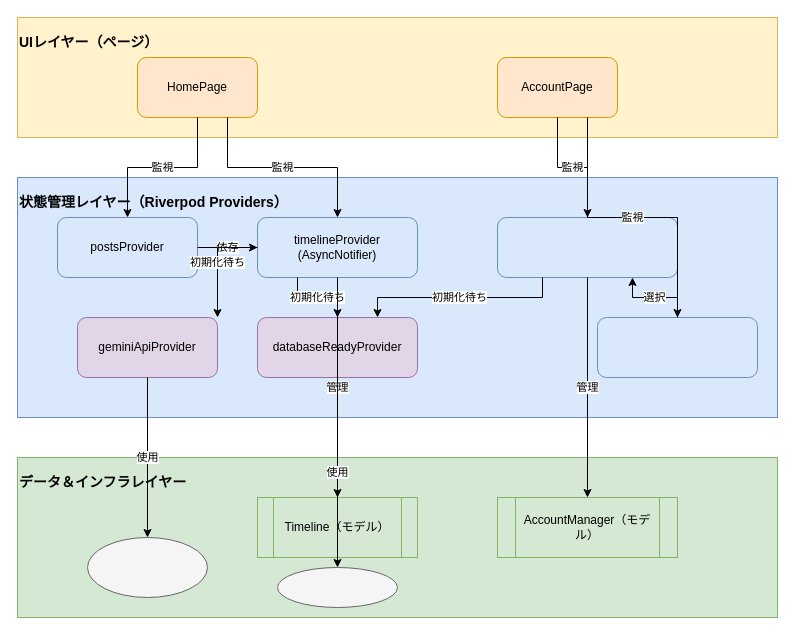
This 795x635 diagram has some shape labels left out. The box of each missing label's shape, as (x1, y1, x2, y2) in pixels:
accountManagerProvider (AsyncNotifier): (496, 216, 678, 278)
botAccountsProvider: (596, 316, 758, 378)
DatabaseHelper (SQLite): (276, 566, 398, 608)
Gemini API: (86, 536, 208, 598)
